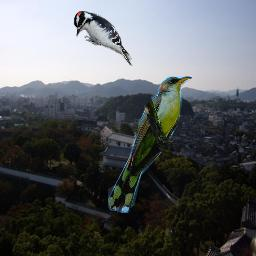Cuckoo: (108, 76, 192, 213)
Woodpecker: (73, 10, 133, 67)
